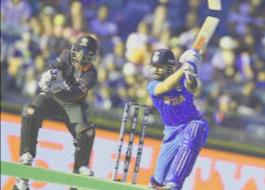batsman: (118, 13, 229, 190)
